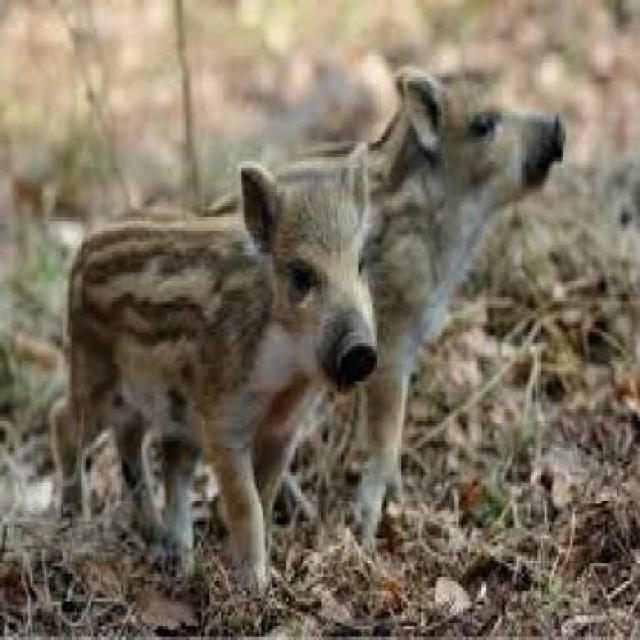wildboar: (173, 54, 569, 548), (46, 139, 388, 603)
